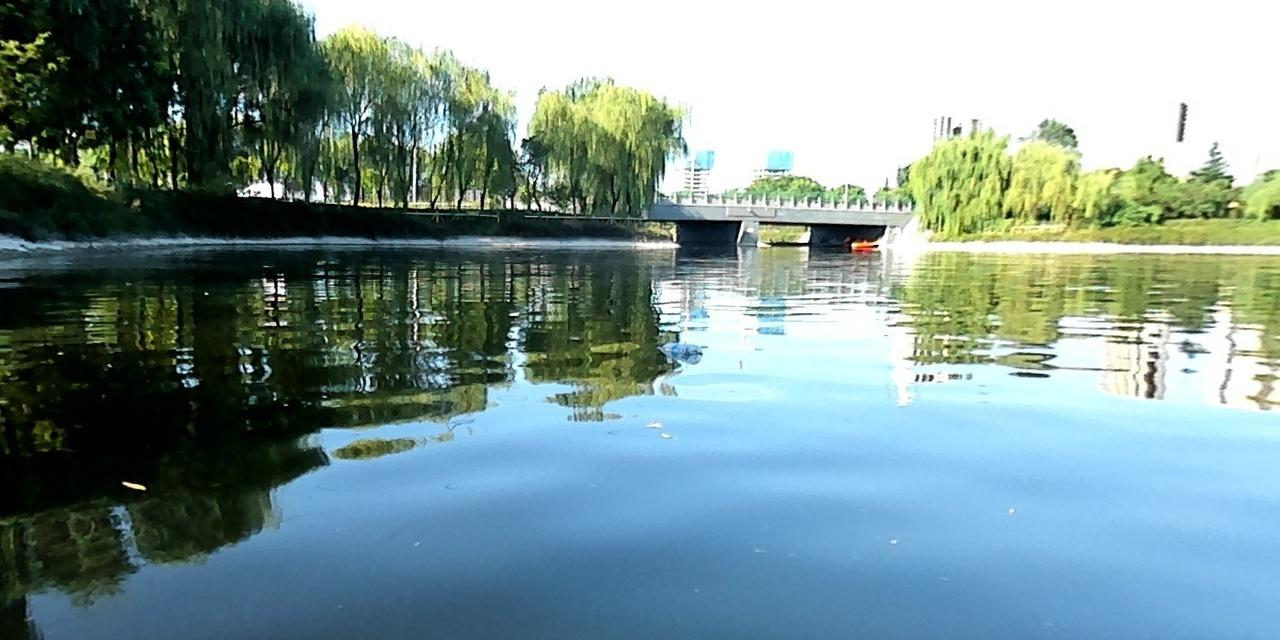bottle: (656, 339, 706, 359)
